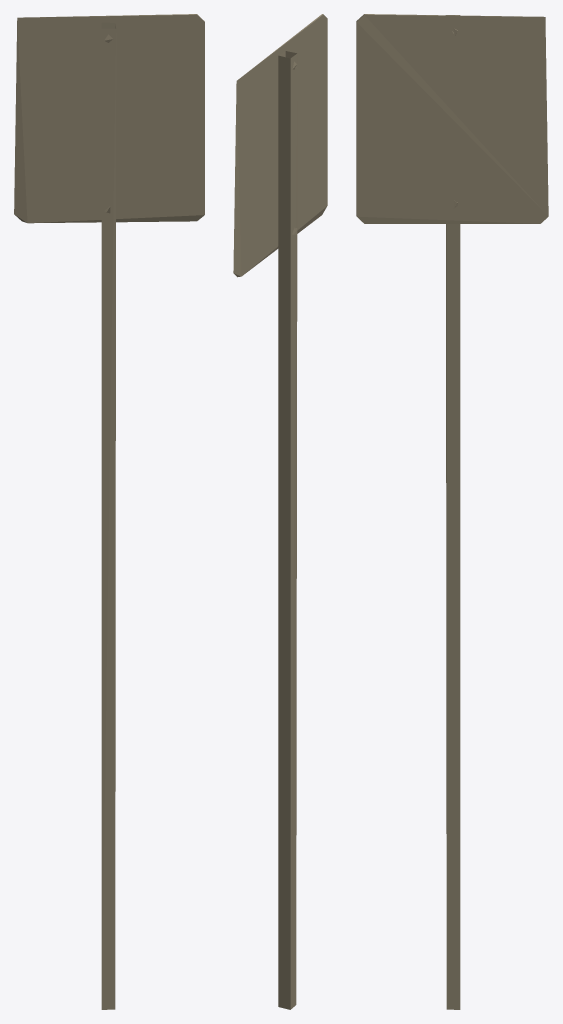
File: sign-speed.lod2.glb
3 views of the same model, side by side, from view 1: azimuth 90°, elevation 25°; view 2: azimuth 150°, elevation 25°; view 3: azimuth 270°, elevation 25° (orthographic). The views are drawn at different scales.
Parts seen in each view (by area): view 1: speed_50_LOW_POLY_sign_0; view 2: speed_50_LOW_POLY_sign_0; view 3: speed_50_LOW_POLY_sign_0.
Boxes of the visible parts, x1,y1,x2,y2 form: speed_50_LOW_POLY_sign_0: [14, 14, 204, 1009]; speed_50_LOW_POLY_sign_0: [233, 14, 327, 1009]; speed_50_LOW_POLY_sign_0: [356, 14, 548, 1009].
Size of the model in its own units: 0.0555 by 2.6 by 0.4544.
